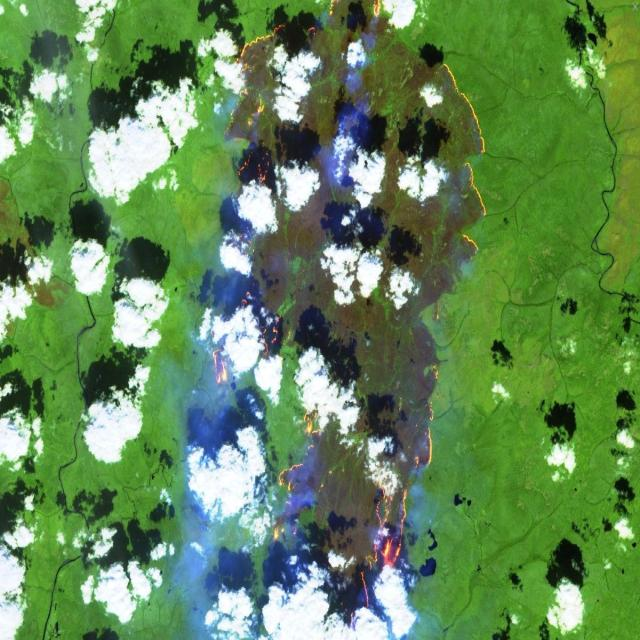fire: (196, 0, 497, 640)
